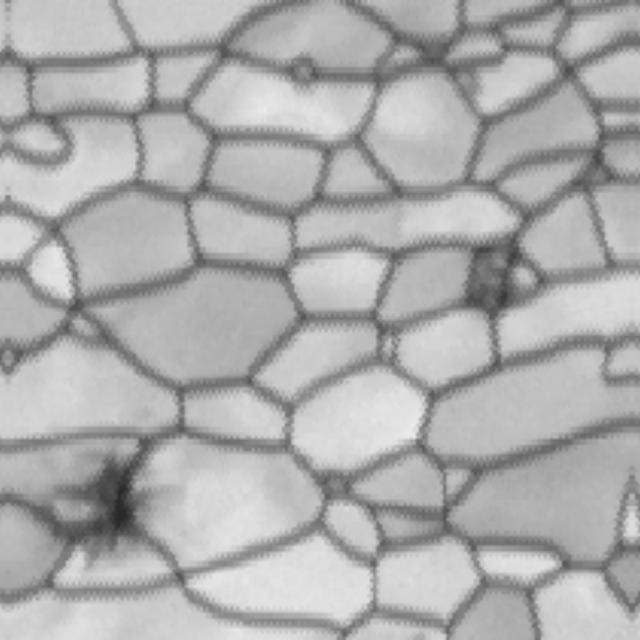good_void: (39, 427, 171, 582), (453, 240, 534, 329)
